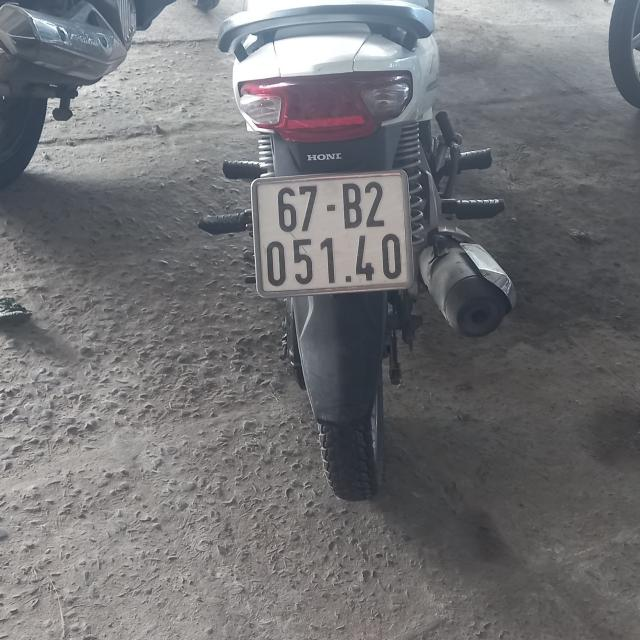0: (381, 233, 401, 280), (266, 241, 286, 287)
1: (320, 238, 335, 284)
2: (364, 181, 385, 228)
4: (355, 234, 374, 282)
5: (293, 239, 313, 284)
6: (278, 187, 297, 234)
7: (298, 184, 317, 232)
B: (342, 184, 362, 230)
